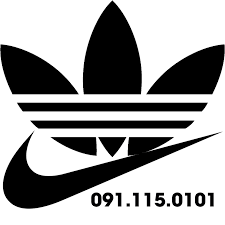adidas: (1, 1, 224, 158)
nike: (1, 132, 220, 211)
